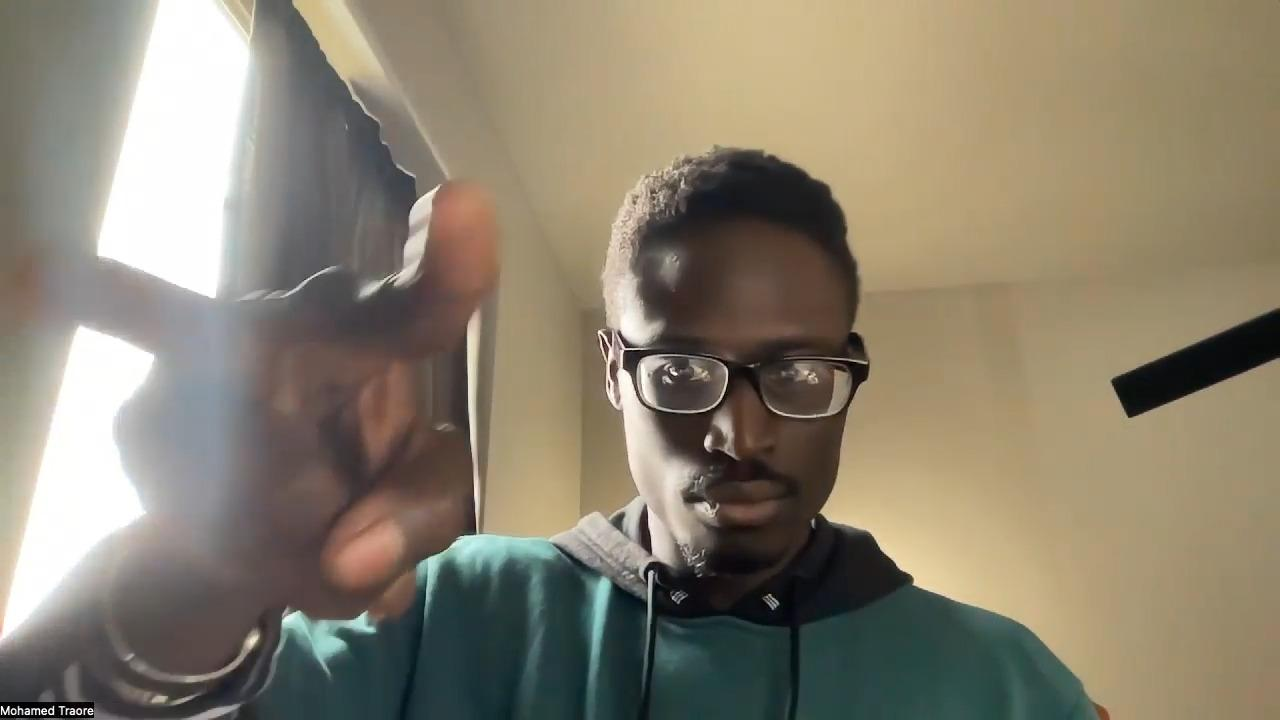Scissors: (0, 178, 497, 627)
